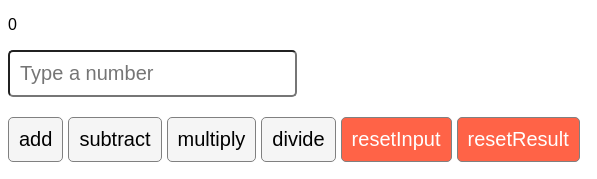
Test case: add 5, should result be 5
The width and height of the screenshot is (597, 179).
Type "5" into the number field named "calculator-input" at (152, 74), box [8, 50, 297, 97]
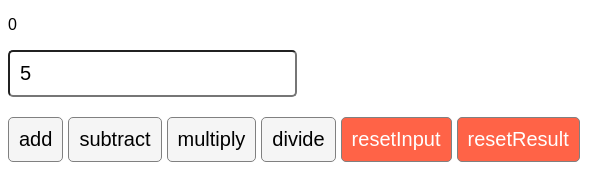
Expected: the text named "calculator-output" reads "0", [8, 16, 17, 33]
Click the button "add" at (36, 140), box [8, 117, 63, 162]
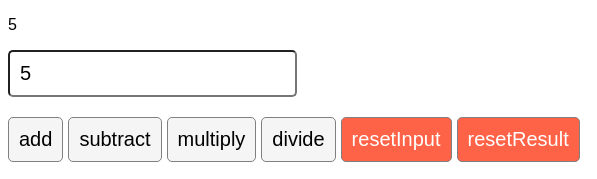
Expected: the text named "calculator-output" reads "5", [8, 16, 17, 33]
